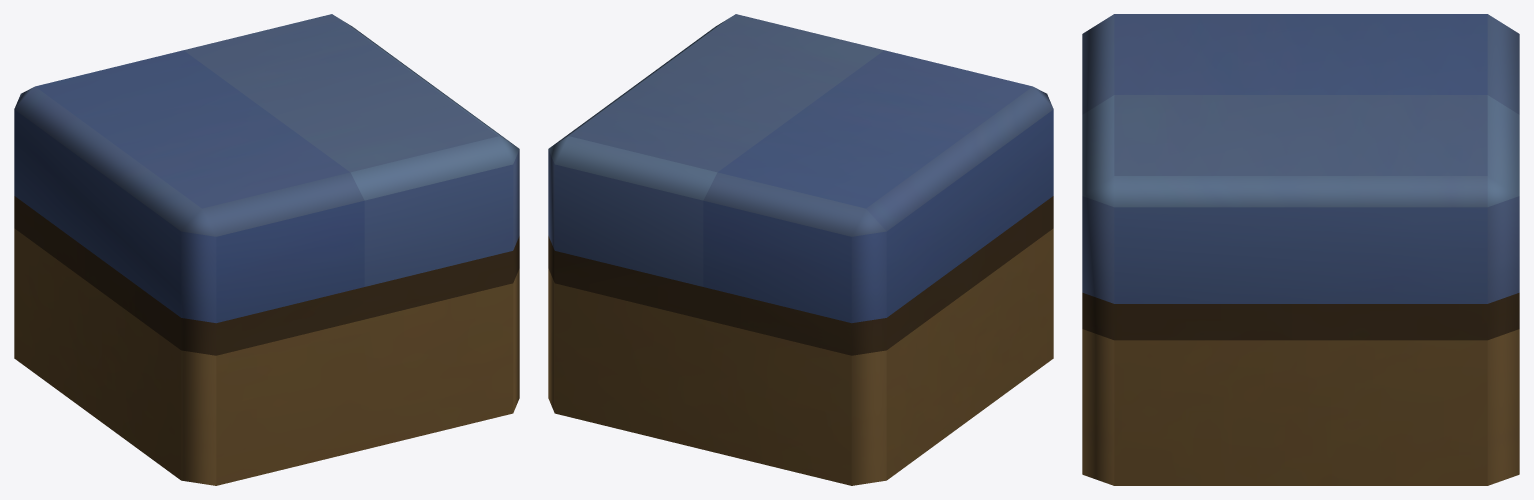
The model's file is chair_roof_footrest_x1_blue.fbx.
3 views of the same model, side by side, from view 1: azimuth 30°, elevation 25°; view 2: azimuth 150°, elevation 25°; view 3: azimuth 270°, elevation 25° (orthographic). The views are drawn at different scales.
Parts seen in each view (by area): view 1: chair_roof_footrest_x1_blue; view 2: chair_roof_footrest_x1_blue; view 3: chair_roof_footrest_x1_blue.
Part boxes in pixels (x1,y1,x2,y2): chair_roof_footrest_x1_blue: [14, 14, 519, 485]; chair_roof_footrest_x1_blue: [548, 14, 1053, 485]; chair_roof_footrest_x1_blue: [1082, 14, 1519, 485].
Bounding box in the file's own units: 50 × 37.68 × 50.
